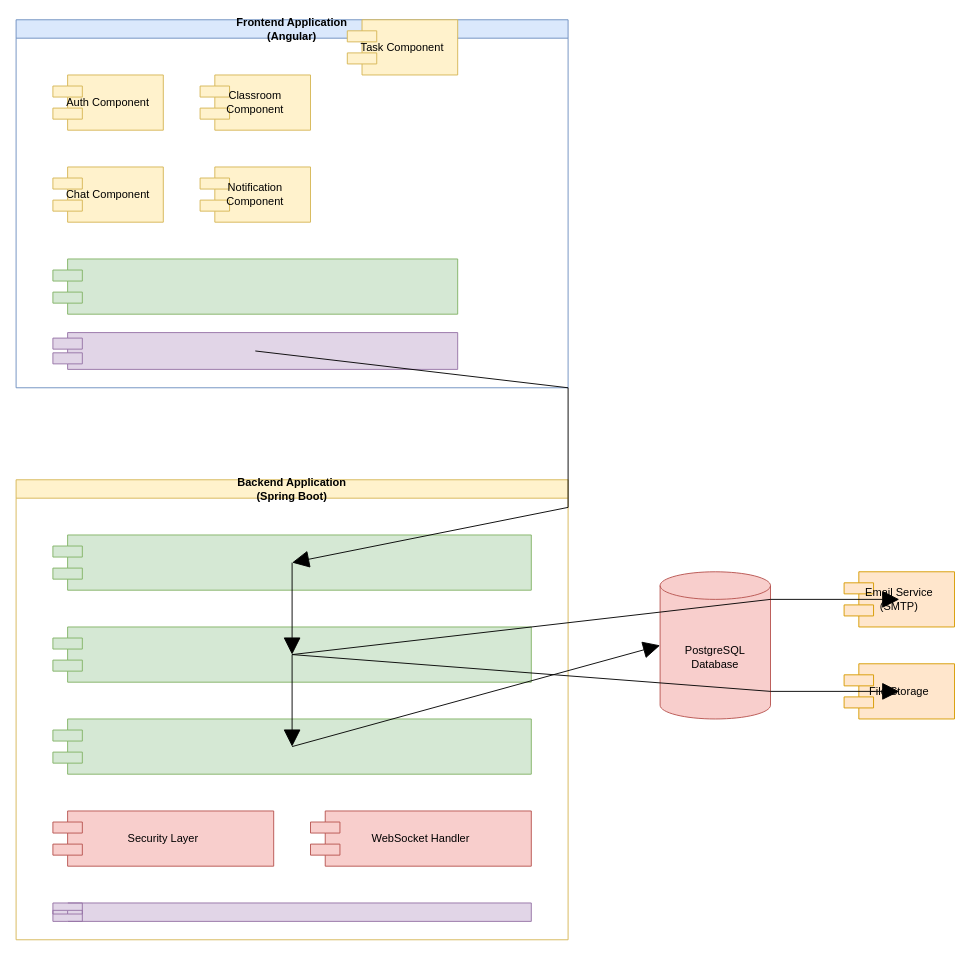
The diagram is 971 pixels wide and 956 high, and some of its shapes have lost their labels. Each missing label, with the centre of its shape:
Business Services: [291,654]
Configuration: [291,911]
HTTP Client: [255,350]
Repositories (JPA): [291,746]
REST Controllers: [291,562]
Services Layer: [255,286]
